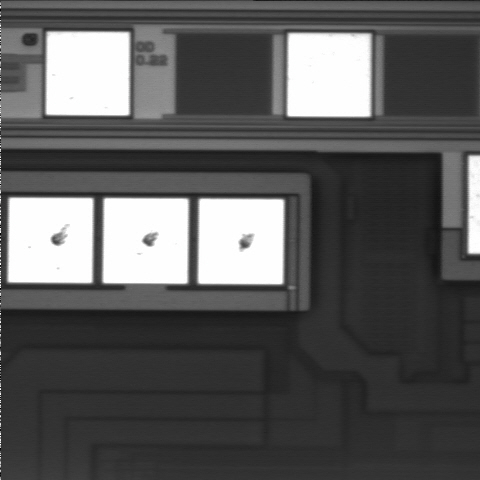pad: (103, 198, 188, 284), (198, 199, 284, 284), (8, 198, 93, 283), (287, 33, 370, 117), (46, 32, 129, 115)
